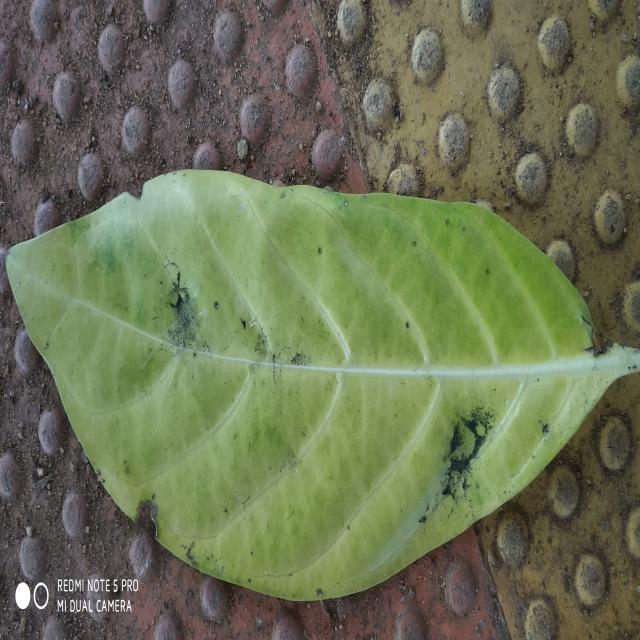anthracnosenooni: (6, 171, 640, 600)
